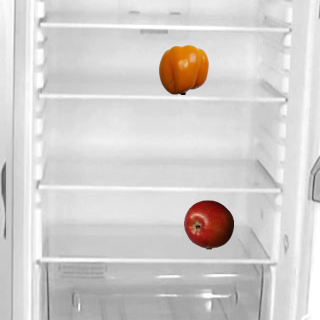Apple Braeburn: (183, 199, 233, 249)
Pepper Yellow: (158, 44, 208, 94)
